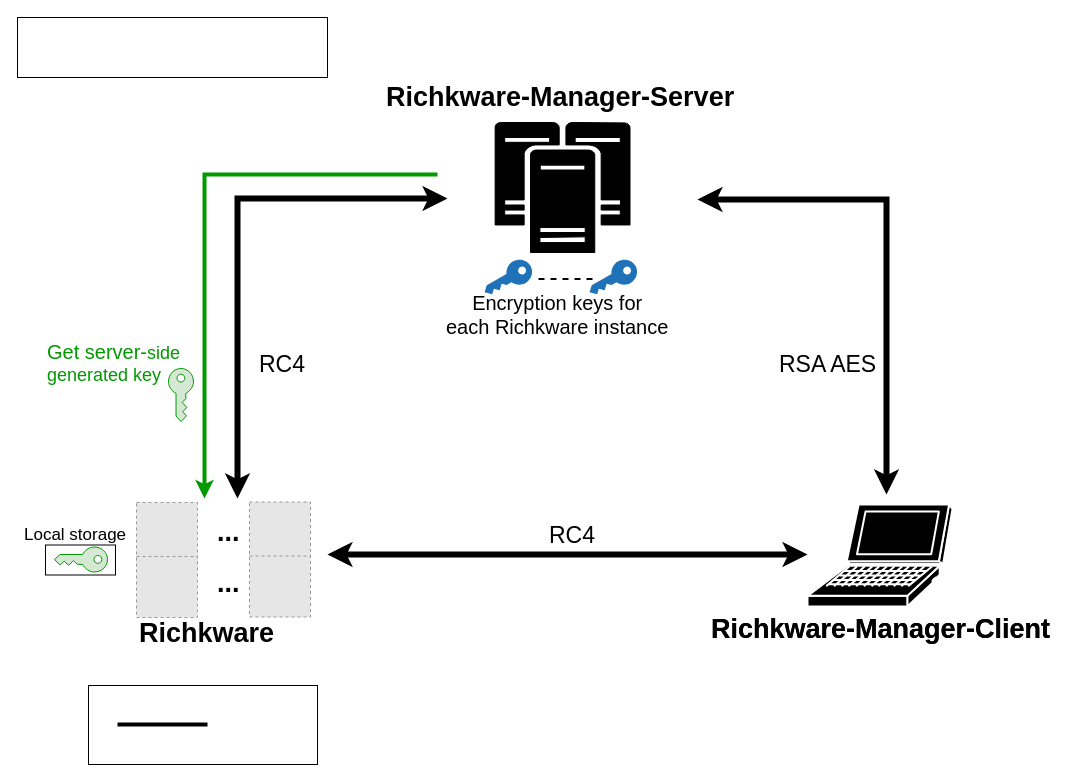
Some shapes in this 1067 by 782 pixel diagram are drawn without their labels. Grey dashed boxes stand in for pictures. Each missing label, with the centre of its shape:
"Cryptography" belongs at point (172, 47).
"Data" belongs at point (203, 724).
